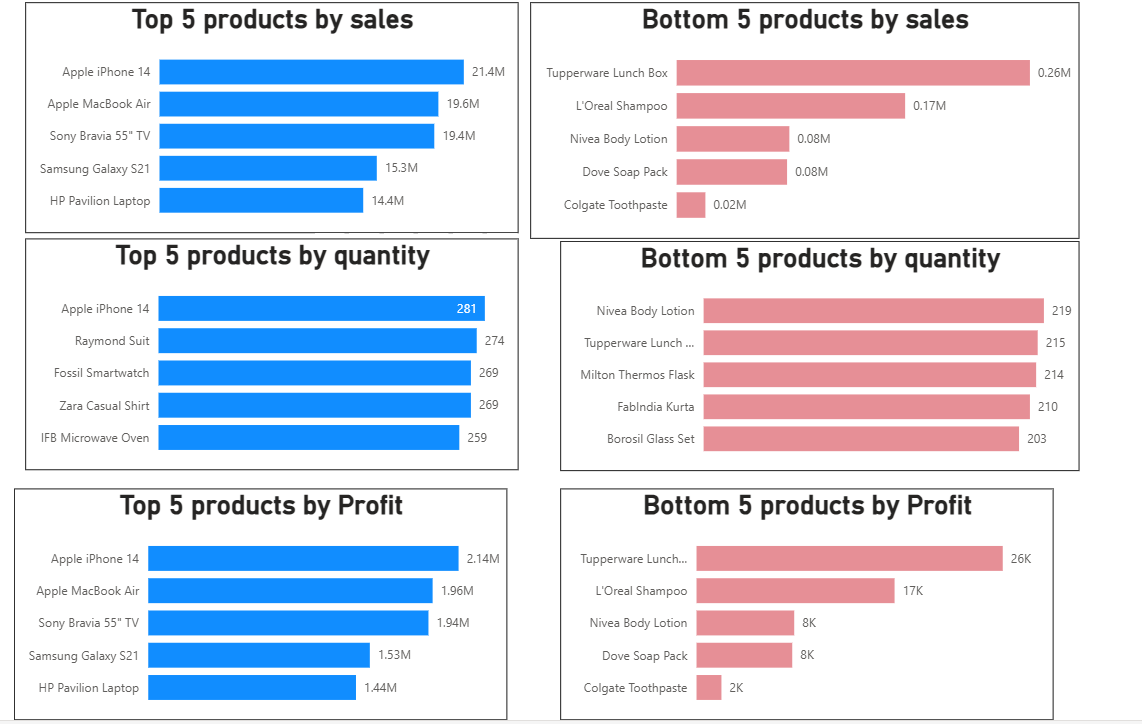

The page's visual inventory and layout, read from the dashboard file:
{"tool":"powerbi","page":{"name":"Top/Bottom 5 Anyalsis","canvas":[1280,720],"ordinal":1},"visuals":[{"type":"barChart","title":"Top 5 products by sales","fields":{"Category":["Dim Product.Product Name"],"Y":["Sum(Fact Table.Net Sales)"]},"box":[11,11,487.1,227.8],"z":0},{"type":"barChart","title":"Bottom 5 products by sales","fields":{"Category":["Dim Product.Product Name"],"Y":["Sum(Fact Table.Net Sales)"]},"box":[510.5,11,542,233.3],"z":1000},{"type":"barChart","title":"Top 5 products by quantity","fields":{"Category":["Dim Product.Product Name"],"Y":["Sum(Fact Table.Units Sold)"]},"box":[10.8,245,487.3,228.9],"z":2000},{"type":"barChart","title":"Bottom 5 products by quantity","fields":{"Category":["Dim Product.Product Name"],"Y":["Sum(Fact Table.Units Sold)"]},"box":[539.8,246.4,512.9,227.5],"z":3000},{"type":"barChart","title":"Top 5 products by Profit","fields":{"Category":["Dim Product.Product Name"],"Y":["Sum(Fact Table.Profit)"]},"box":[0,491.4,487.3,228.9],"z":4000},{"type":"barChart","title":"Bottom 5 products by Profit","fields":{"Category":["Dim Product.Product Name"],"Y":["Sum(Fact Table.Profit)"]},"box":[539.8,491.4,487.3,228.9],"z":5000}]}

Visuals, with their boxes on the page's 1280x720 design canvas (x1, y1, x2, y2). These are canvas units, not pixel positions in the 1142x724 screenshot, which may show the page scaled, cropped or inside an application window:
"Top 5 products by sales" barChart: box=[11, 11, 498, 239]
"Bottom 5 products by sales" barChart: box=[510, 11, 1052, 244]
"Top 5 products by quantity" barChart: box=[11, 245, 498, 474]
"Bottom 5 products by quantity" barChart: box=[540, 246, 1053, 474]
"Top 5 products by Profit" barChart: box=[0, 491, 487, 720]
"Bottom 5 products by Profit" barChart: box=[540, 491, 1027, 720]
